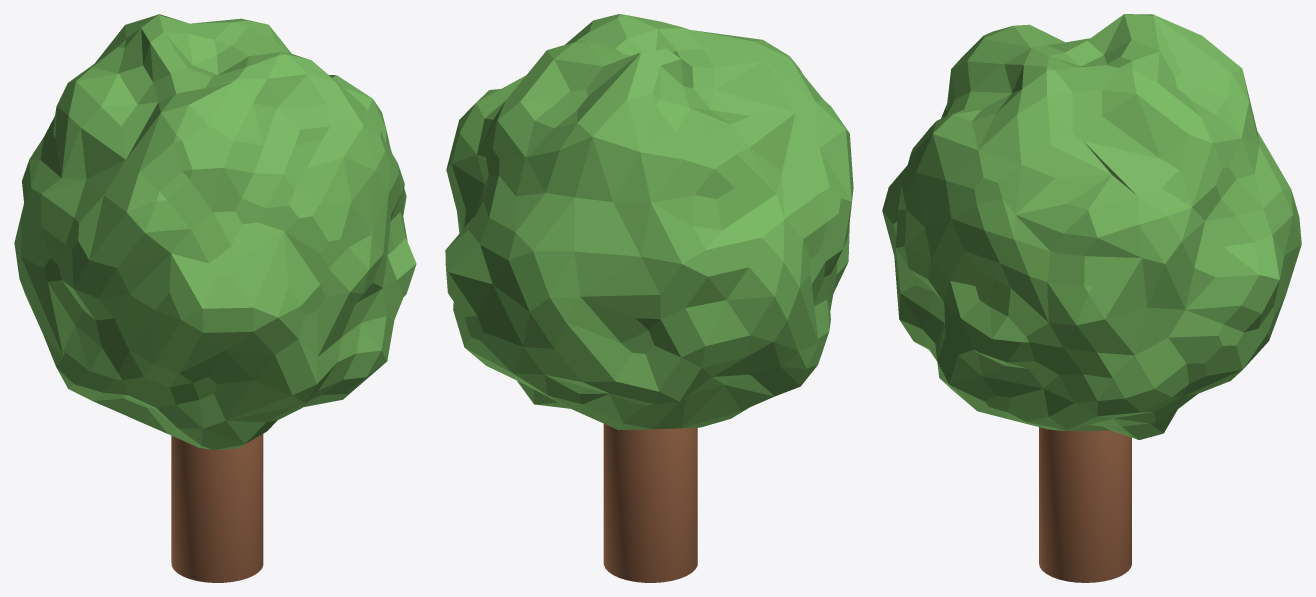
Rendered from Tree_3.fbx.
3 renders of one model, left to right at view 1: azimuth 30°, elevation 25°; view 2: azimuth 150°, elevation 25°; view 3: azimuth 270°, elevation 25°, orthographic. The views are drawn at different scales.
Parts seen in each view (by area): view 1: Icosphere.026, Cylinder.015; view 2: Icosphere.026, Cylinder.015; view 3: Icosphere.026, Cylinder.015.
Part boxes in pixels (box(x1,y1,x2,y2)): Icosphere.026: box(14, 14, 416, 449); Cylinder.015: box(171, 434, 263, 582); Icosphere.026: box(445, 14, 853, 430); Cylinder.015: box(603, 424, 697, 582); Icosphere.026: box(882, 14, 1301, 439); Cylinder.015: box(1039, 427, 1131, 582).
Size of the model in its own units: 1811 by 2580 by 1829.
